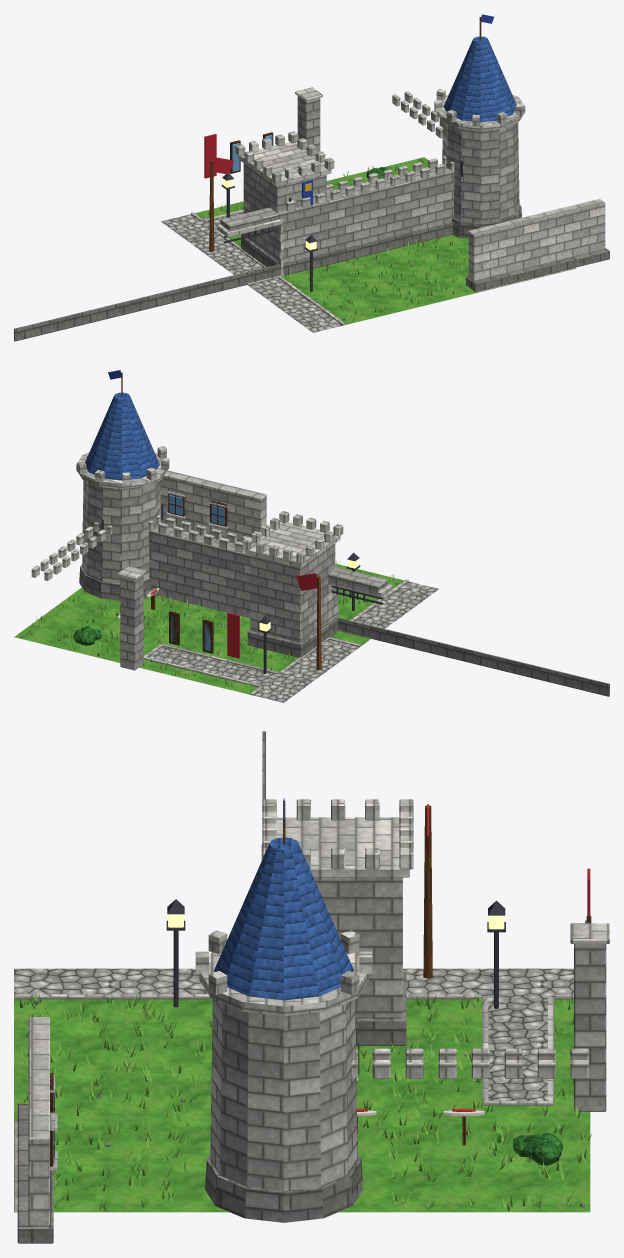
The model's file is chunk_6_4.glb.
3 views of the same model, one above another, from view 1: azimuth 30°, elevation 25°; view 2: azimuth 150°, elevation 25°; view 3: azimuth 270°, elevation 25° (orthographic). The views are drawn at different scales.
Parts seen in each view (by area): view 1: chunk_6_4; view 2: chunk_6_4; view 3: chunk_6_4.
Boxes of the visible parts, left/top/right/bottom form: chunk_6_4: left=14, top=14, right=609, bottom=341; chunk_6_4: left=14, top=370, right=609, bottom=702; chunk_6_4: left=14, top=731, right=609, bottom=1243.
Size of the model in its own units: 32.2 by 12.12 by 16.55.
Materials: 21 (12 with a texture image).
